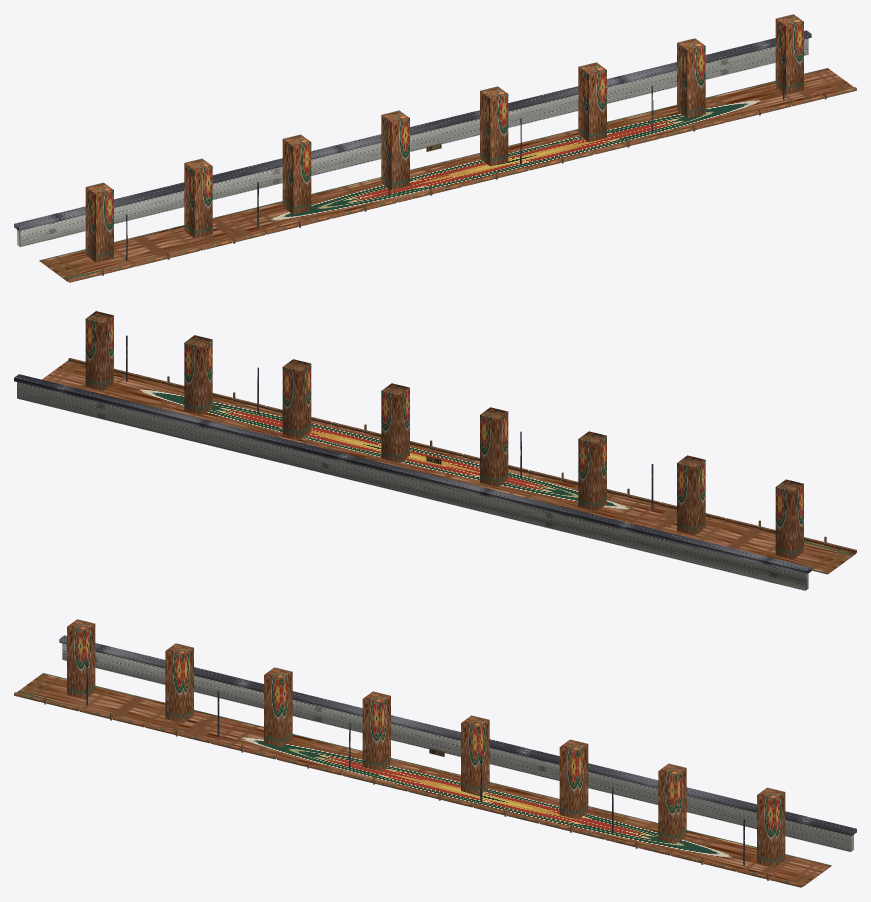
3 views of the same model, one above another, from view 1: azimuth 30°, elevation 25°; view 2: azimuth 150°, elevation 25°; view 3: azimuth 330°, elevation 25° (orthographic).
Visible parts, largest first — view 1: 11140_02_04519_005_05_L2__sidewalk, 11140_02_04519_005_06_L2__trees, 11140_02_04519_005_01_L2__wall_body, 11140_02_04519_005_03_L2__wall_cap, 11140_02_04519_005_05_L2__lamps; view 2: 11140_02_04519_005_05_L2__sidewalk, 11140_02_04519_005_06_L2__trees, 11140_02_04519_005_01_L2__wall_body, 11140_02_04519_005_03_L2__wall_cap; view 3: 11140_02_04519_005_05_L2__sidewalk, 11140_02_04519_005_06_L2__trees, 11140_02_04519_005_01_L2__wall_body, 11140_02_04519_005_03_L2__wall_cap, 11140_02_04519_005_05_L2__lamps.
Part boxes in pixels (x1,y1,x2,y2): 11140_02_04519_005_05_L2__sidewalk: [39, 68, 856, 282]; 11140_02_04519_005_06_L2__trees: [85, 14, 803, 262]; 11140_02_04519_005_01_L2__wall_body: [17, 38, 808, 246]; 11140_02_04519_005_03_L2__wall_cap: [14, 30, 811, 230]; 11140_02_04519_005_05_L2__lamps: [125, 54, 784, 260]; 11140_02_04519_005_05_L2__sidewalk: [42, 358, 856, 574]; 11140_02_04519_005_06_L2__trees: [85, 311, 803, 559]; 11140_02_04519_005_01_L2__wall_body: [17, 382, 808, 590]; 11140_02_04519_005_03_L2__wall_cap: [14, 374, 811, 574]; 11140_02_04519_005_05_L2__sidewalk: [14, 673, 831, 887]; 11140_02_04519_005_06_L2__trees: [67, 619, 785, 867]; 11140_02_04519_005_01_L2__wall_body: [62, 643, 853, 851]; 11140_02_04519_005_03_L2__wall_cap: [59, 635, 856, 835]; 11140_02_04519_005_05_L2__lamps: [86, 659, 744, 865].
Size of the model in its own units: 96.5 by 8 by 11.43.
Materials: 6 (6 with a texture image).
